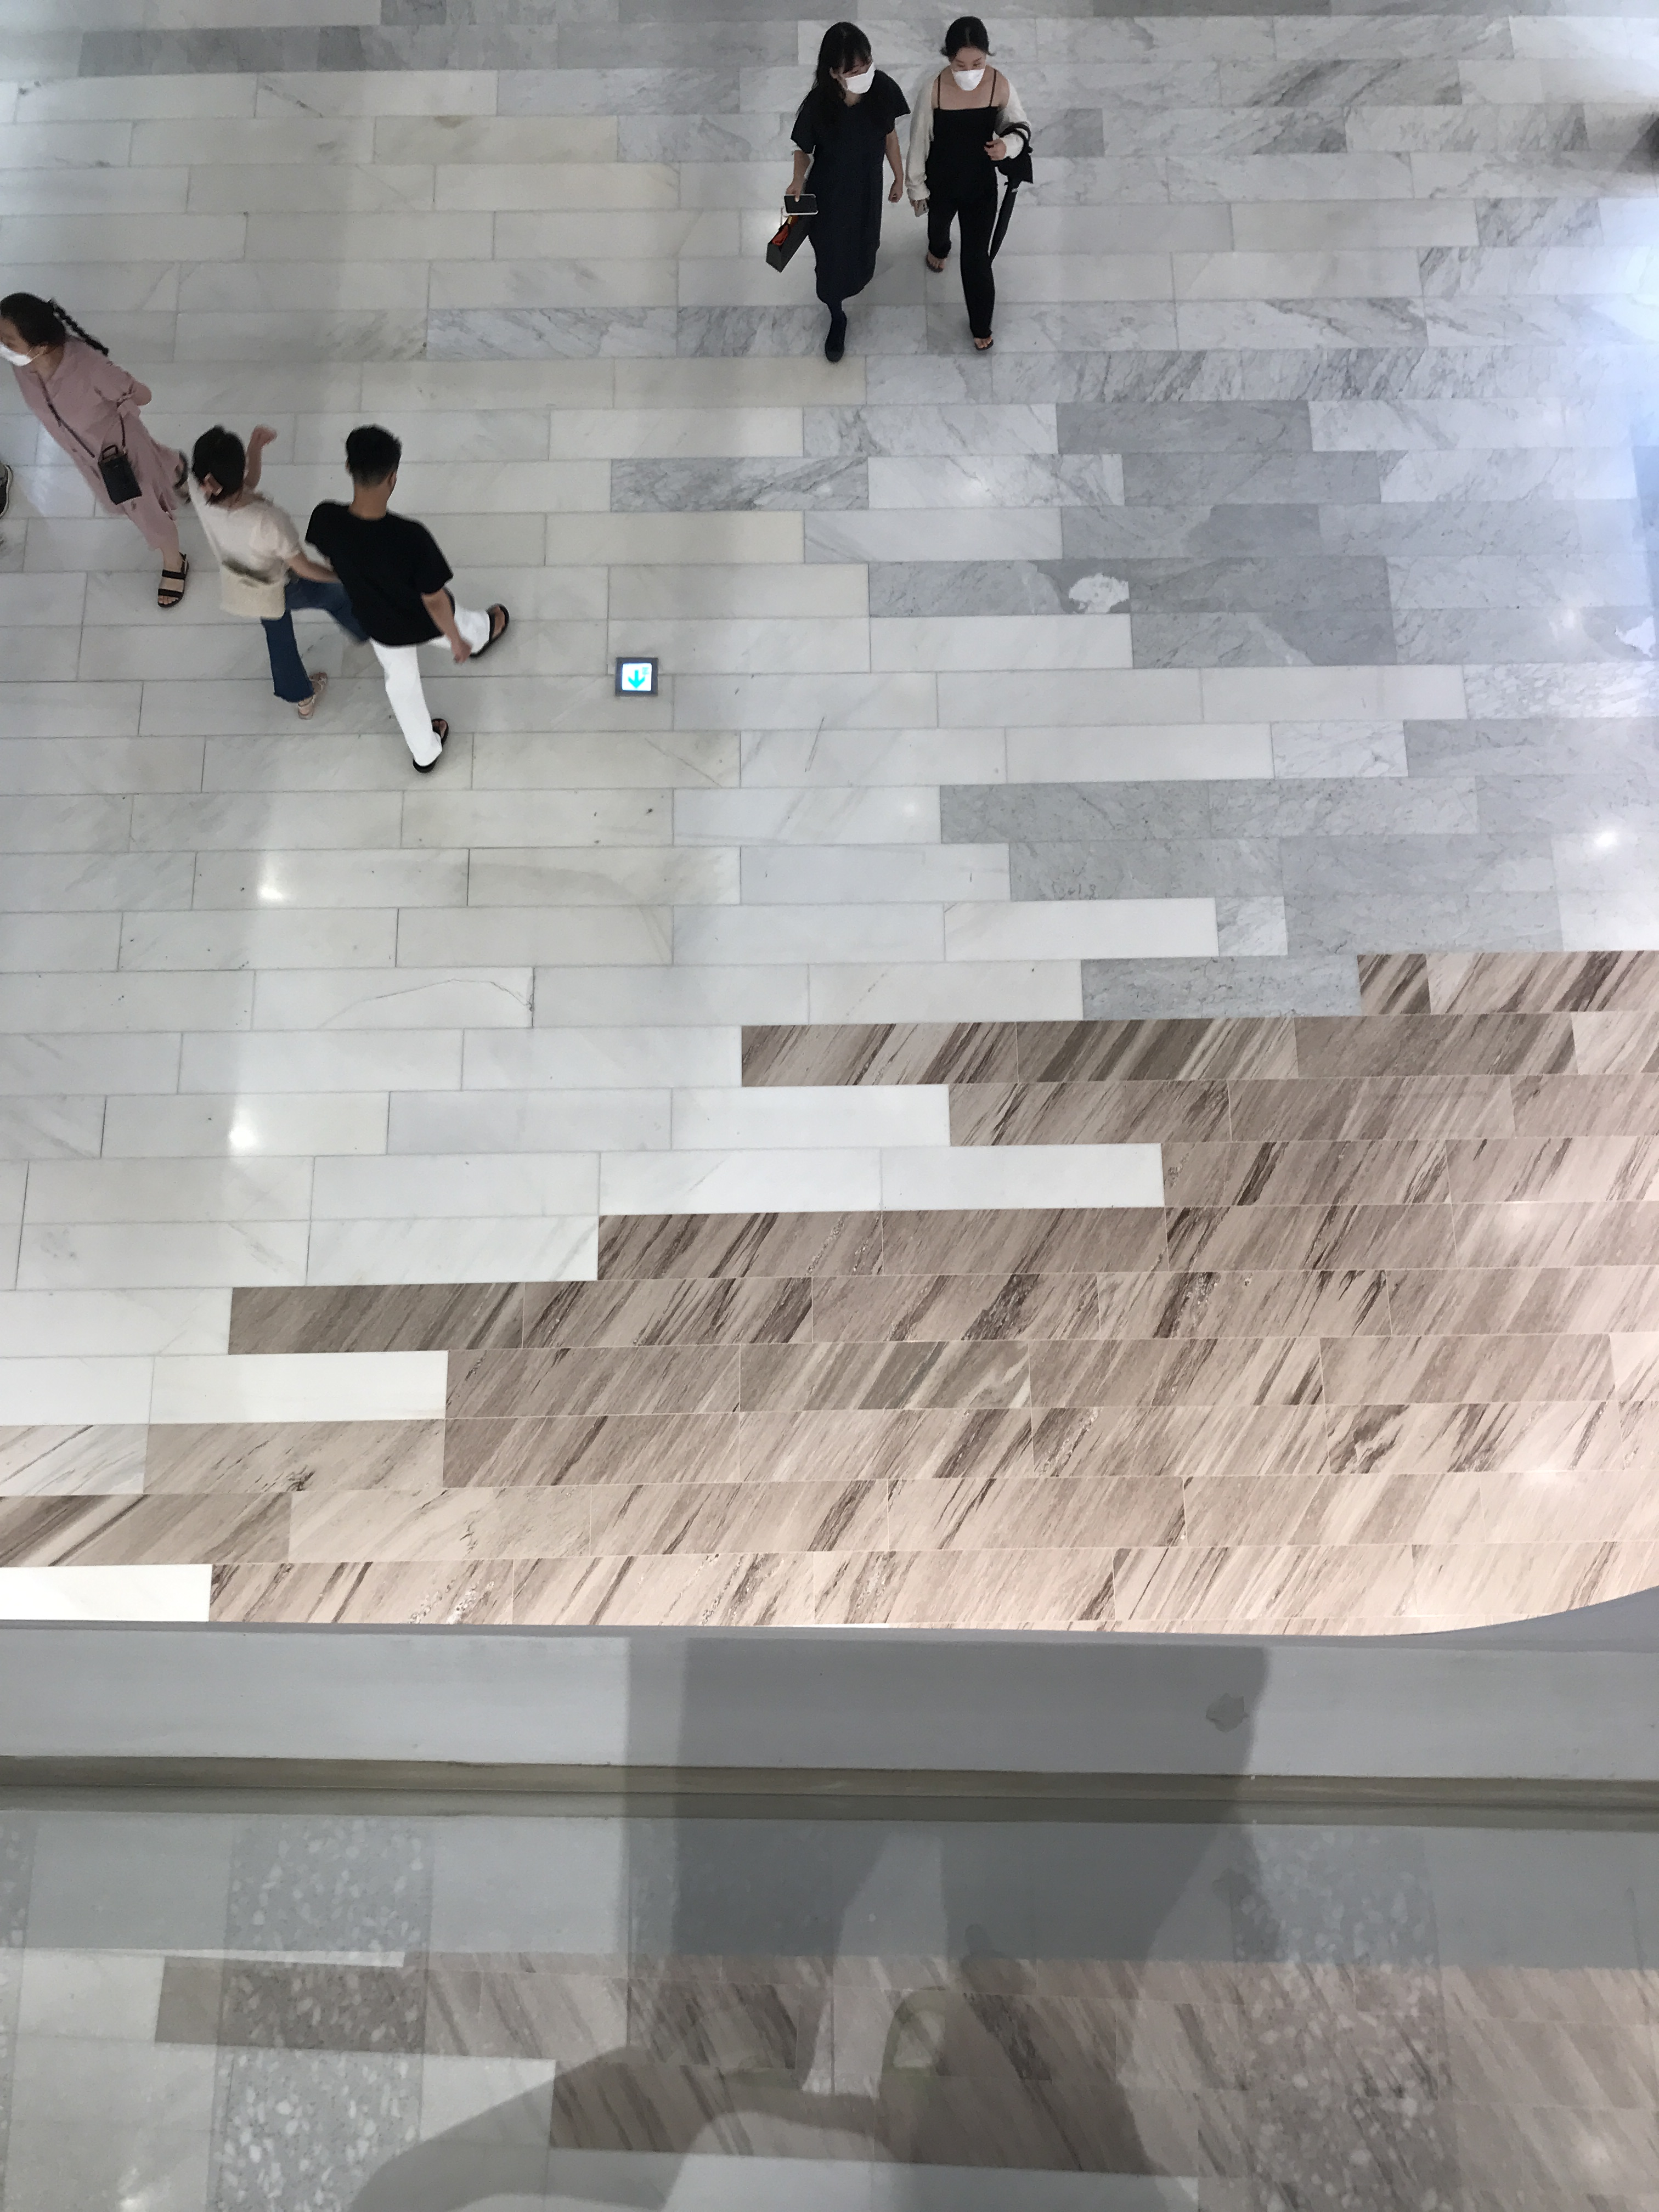person: (304, 422, 512, 774), (1, 287, 191, 608), (188, 422, 362, 721), (778, 20, 909, 370), (906, 15, 1028, 356)
